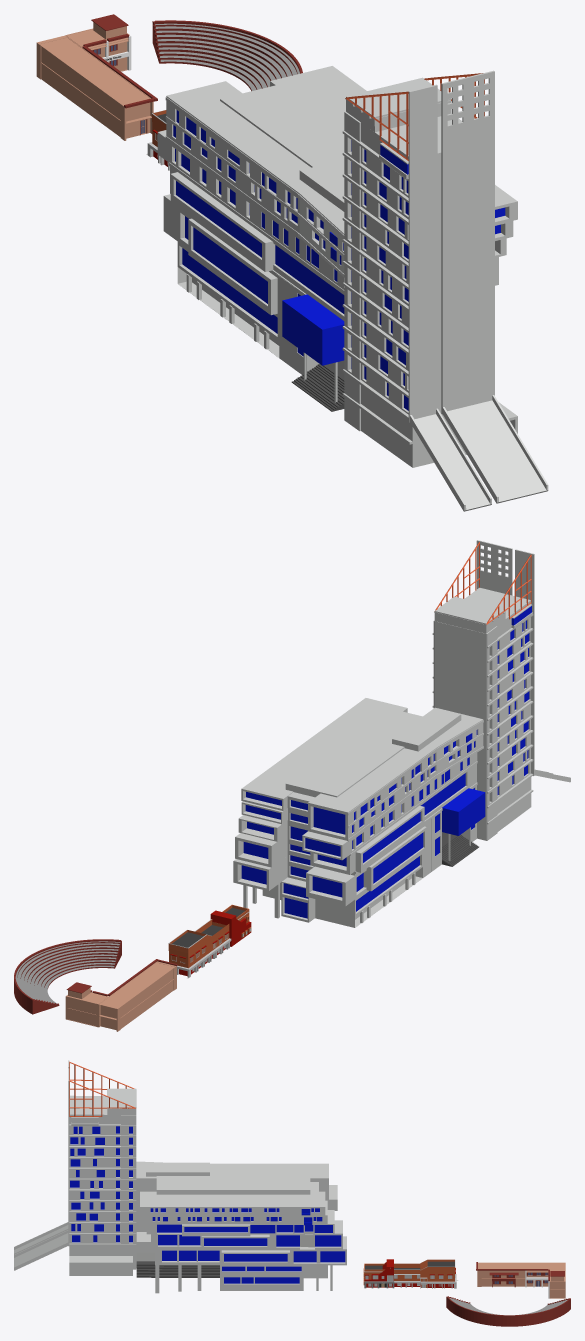
File: all.gltf
The picture shows the model from 3 angles, top to bottom: view 1: azimuth 30°, elevation 25°; view 2: azimuth 150°, elevation 25°; view 3: azimuth 270°, elevation 25°; orthographic projection. The views are drawn at different scales.
Parts seen in each view (by area): view 1: Cube.002, black, Building; view 2: Cube.002, black, Building; view 3: Cube.002, black, Building.
Part boxes in pixels (left/top/right/bottom): Cube.002: left=157, top=66, right=548, bottom=511; black: left=36, top=14, right=302, bottom=140; Building: left=146, top=110, right=169, bottom=170; Cube.002: left=233, top=540, right=570, bottom=927; black: left=14, top=939, right=177, bottom=1031; Building: left=168, top=904, right=251, bottom=978; Cube.002: left=14, top=1060, right=346, bottom=1293; black: left=446, top=1262, right=570, bottom=1326; Building: left=363, top=1259, right=458, bottom=1288.
Bounding box in the file's own units: 75.81 × 85.76 × 226.
